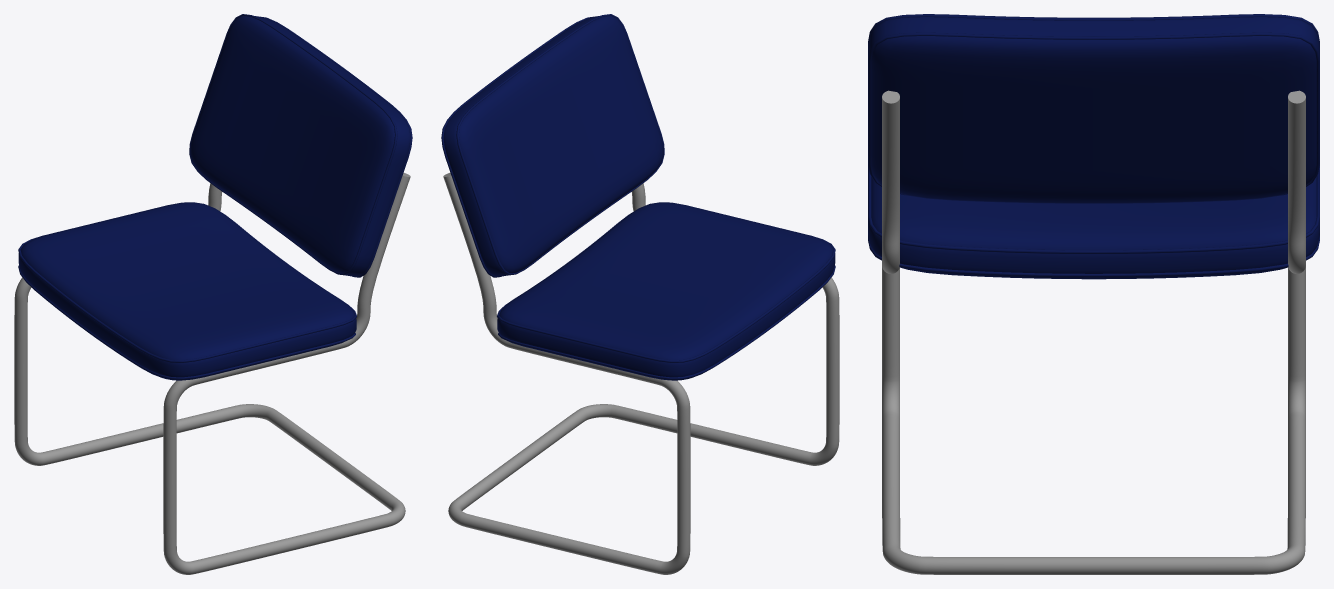
Rendered from Chair.FBX.
3 renders of one model, left to right at view 1: azimuth 30°, elevation 25°; view 2: azimuth 150°, elevation 25°; view 3: azimuth 270°, elevation 25°, orthographic. The views are drawn at different scales.
Parts seen in each view (by area): view 1: Chair_Seat, Chair_Back, Chair_Body; view 2: Chair_Seat, Chair_Back, Chair_Body; view 3: Chair_Back, Chair_Seat, Chair_Body.
Part boxes in pixels (bbox=[...]): Chair_Seat: bbox=[18, 202, 356, 380]; Chair_Back: bbox=[189, 14, 412, 277]; Chair_Body: bbox=[14, 173, 410, 574]; Chair_Seat: bbox=[497, 202, 835, 380]; Chair_Back: bbox=[441, 14, 664, 277]; Chair_Body: bbox=[443, 173, 839, 574]; Chair_Back: bbox=[868, 14, 1319, 203]; Chair_Seat: bbox=[868, 164, 1319, 279]; Chair_Body: bbox=[882, 90, 1305, 574].
Size of the model in its own units: 0.7689 by 1.15 by 0.8534.
